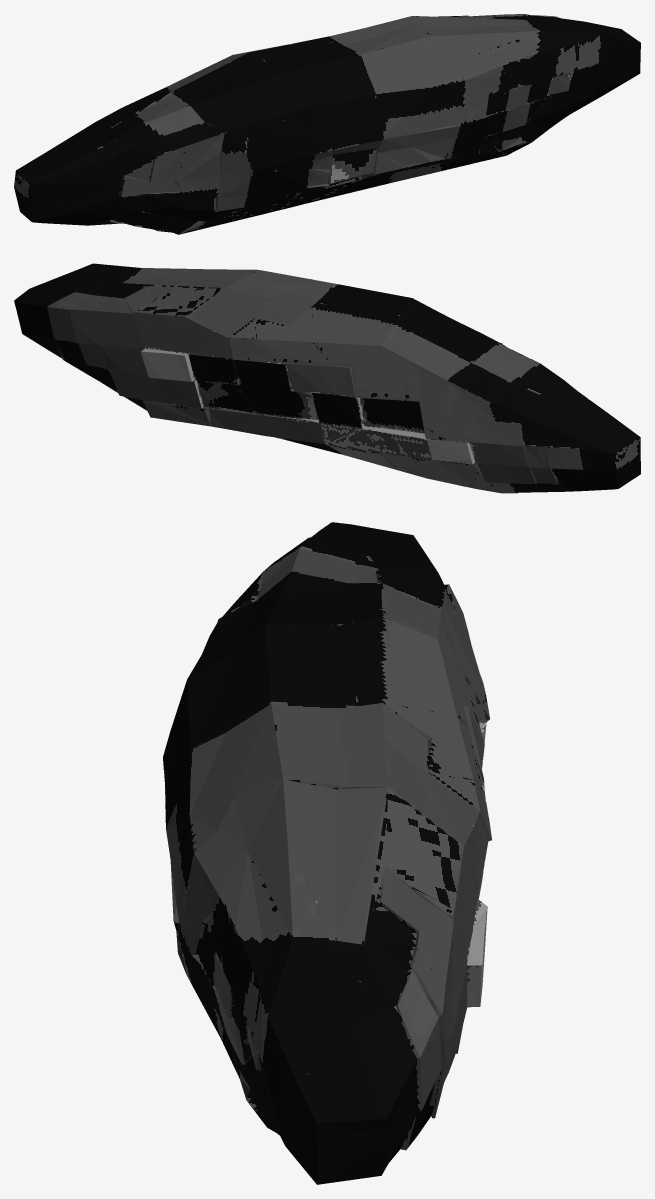
3 views of the same model, one above another, from view 1: azimuth 30°, elevation 25°; view 2: azimuth 150°, elevation 25°; view 3: azimuth 270°, elevation 25° (orthographic). The views are drawn at different scales.
Visible parts, largest first — view 1: OBJ111; view 2: OBJ111; view 3: OBJ111.
Part boxes in pixels (bbox=[...]): OBJ111: bbox=[14, 14, 640, 234]; OBJ111: bbox=[14, 263, 640, 493]; OBJ111: bbox=[163, 522, 491, 1184].
Size of the model in its own units: 0.2577 by 0.058 by 0.0605.
1 material, 1 textured.
